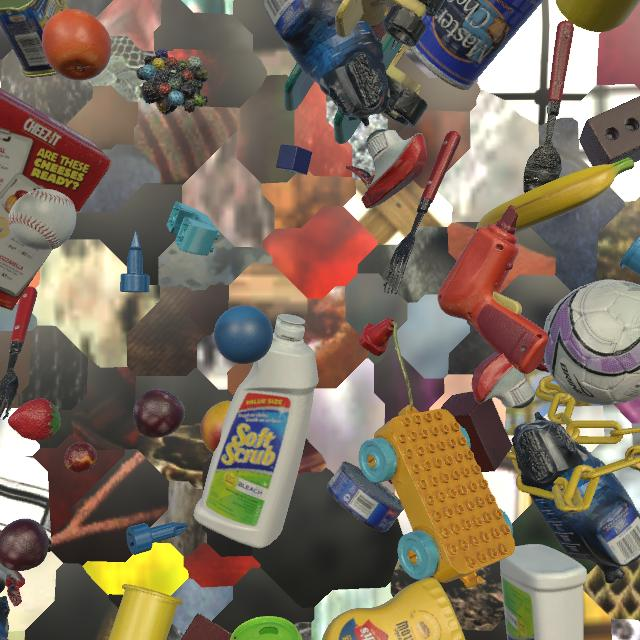ycb_002_master_chef_can: (409, 0, 543, 90)
ycb_003_cracker_box: (0, 88, 112, 310)
ycb_006_mustard_bottle: (322, 577, 465, 640)
ycb_007_tuna_fish_can: (327, 461, 404, 532)
ycb_010_potted_meat_can: (0, 0, 69, 78)
ycb_011_banana: (476, 158, 634, 234)
ycb_012_strawberry: (8, 398, 61, 441)
ycb_015_peach: (200, 401, 231, 453)
ycb_017_orange: (42, 9, 112, 81)
ycb_018_plum: (0, 518, 49, 571), (133, 389, 185, 438)
